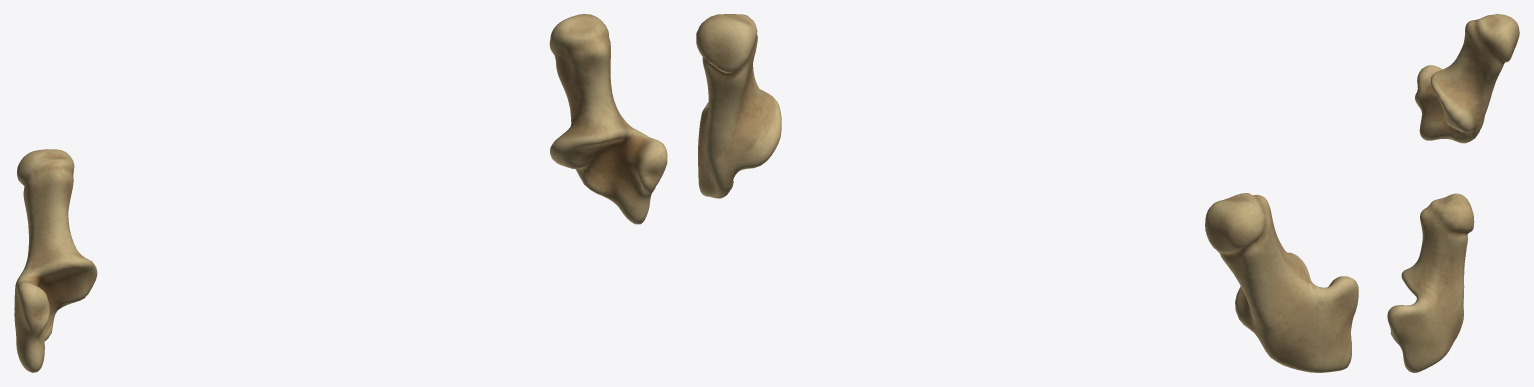
The model's file is Calcaneus.glb.
3 views of the same model, side by side, from view 1: azimuth 30°, elevation 25°; view 2: azimuth 150°, elevation 25°; view 3: azimuth 270°, elevation 25° (orthographic). The views are drawn at different scales.
Visible parts, largest first — view 1: ZBrush_defualt_group.003; view 2: ZBrush_defualt_group.003; view 3: ZBrush_defualt_group.003.
Boxes of the visible parts, bbox=[...] form: ZBrush_defualt_group.003: bbox=[14, 14, 667, 372]; ZBrush_defualt_group.003: bbox=[696, 14, 1358, 372]; ZBrush_defualt_group.003: bbox=[1387, 14, 1519, 372].
Size of the model in its own units: 343 by 107 by 76.02.
1 material, 1 textured.
